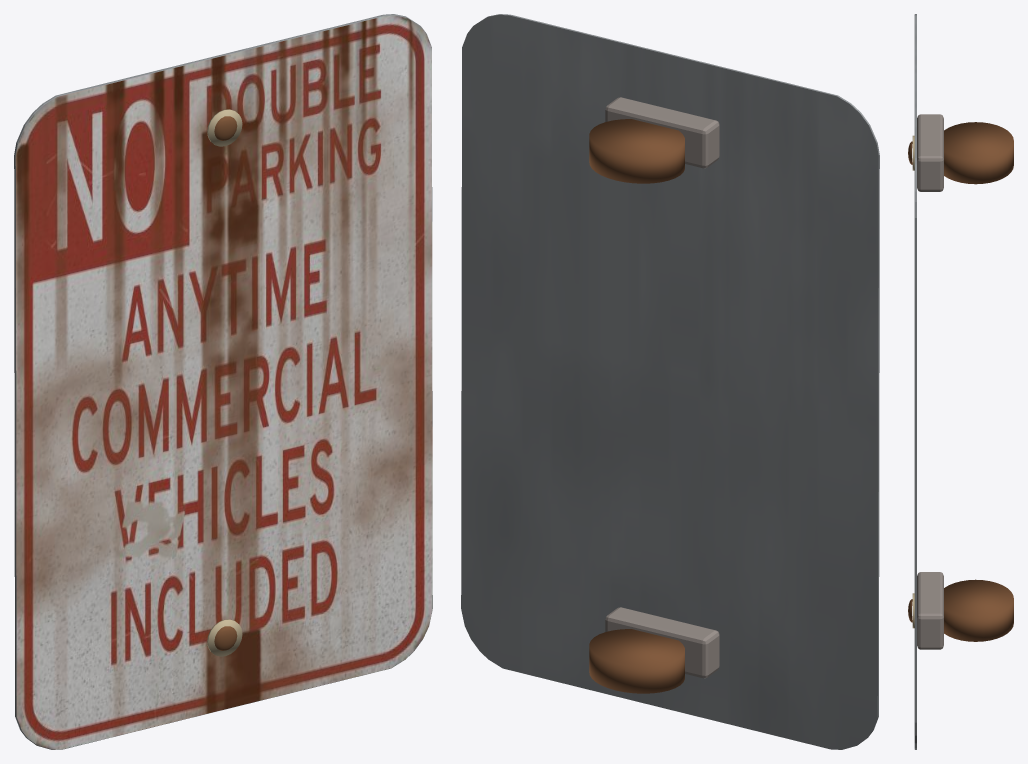
Rendered from noDoubleParking-v1-rusty.glb.
3 renders of one model, left to right at view 1: azimuth 30°, elevation 25°; view 2: azimuth 150°, elevation 25°; view 3: azimuth 270°, elevation 25°, orthographic. The views are drawn at different scales.
Parts seen in each view (by area): view 1: noDoubleParking-v1-rusty; view 2: noDoubleParking-v1-rusty; view 3: noDoubleParking-v1-rusty.
Part boxes in pixels (bbox=[...]): noDoubleParking-v1-rusty: bbox=[14, 14, 432, 749]; noDoubleParking-v1-rusty: bbox=[461, 14, 879, 749]; noDoubleParking-v1-rusty: bbox=[908, 14, 1013, 749].
Bounding box in the file's own units: 0.3556 × 0.5335 × 0.0871.
1 material, 1 textured.
